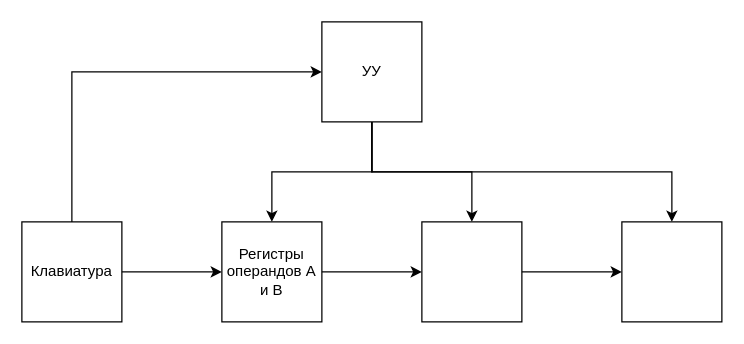
This 744x344 diagram has some shape labels left out. The shapes that lost their labels are listed below. From the top down, each one's centre as x and y in pixels, then its label:
At [471,271]: "АЛУ".
At [671,271]: "Регистр результата C".
